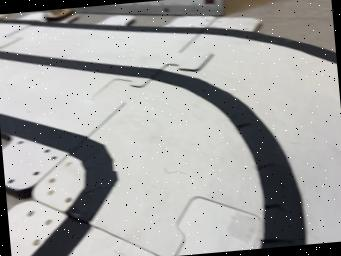street: (0, 21, 341, 256), (0, 21, 341, 256), (0, 21, 341, 256), (0, 21, 341, 256), (0, 21, 341, 256), (0, 21, 341, 256)
